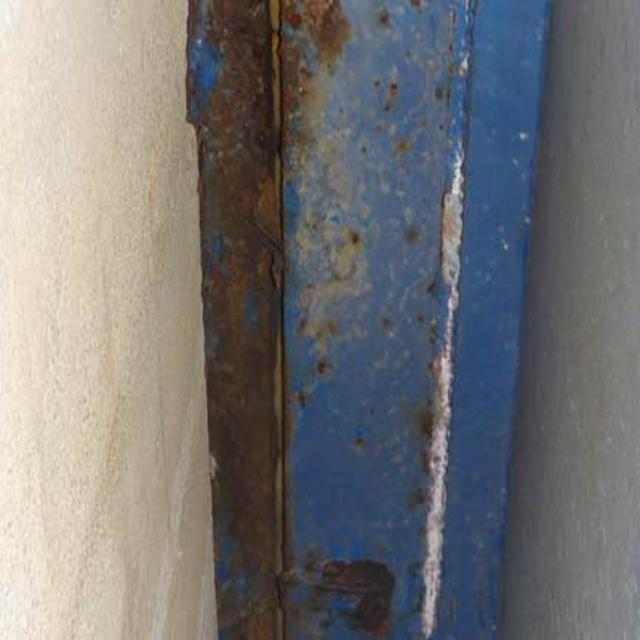corrosion: (178, 3, 416, 636)
